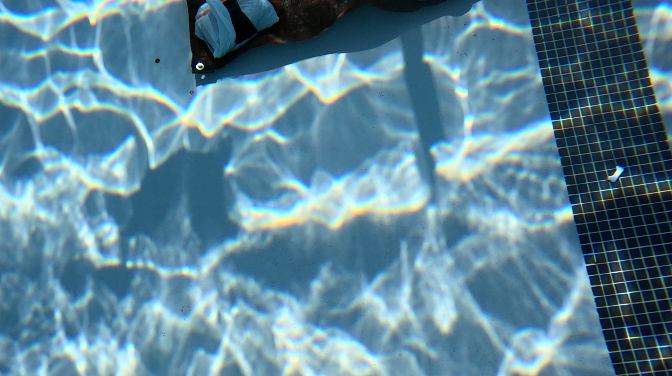sandbag: (186, 0, 448, 74)
